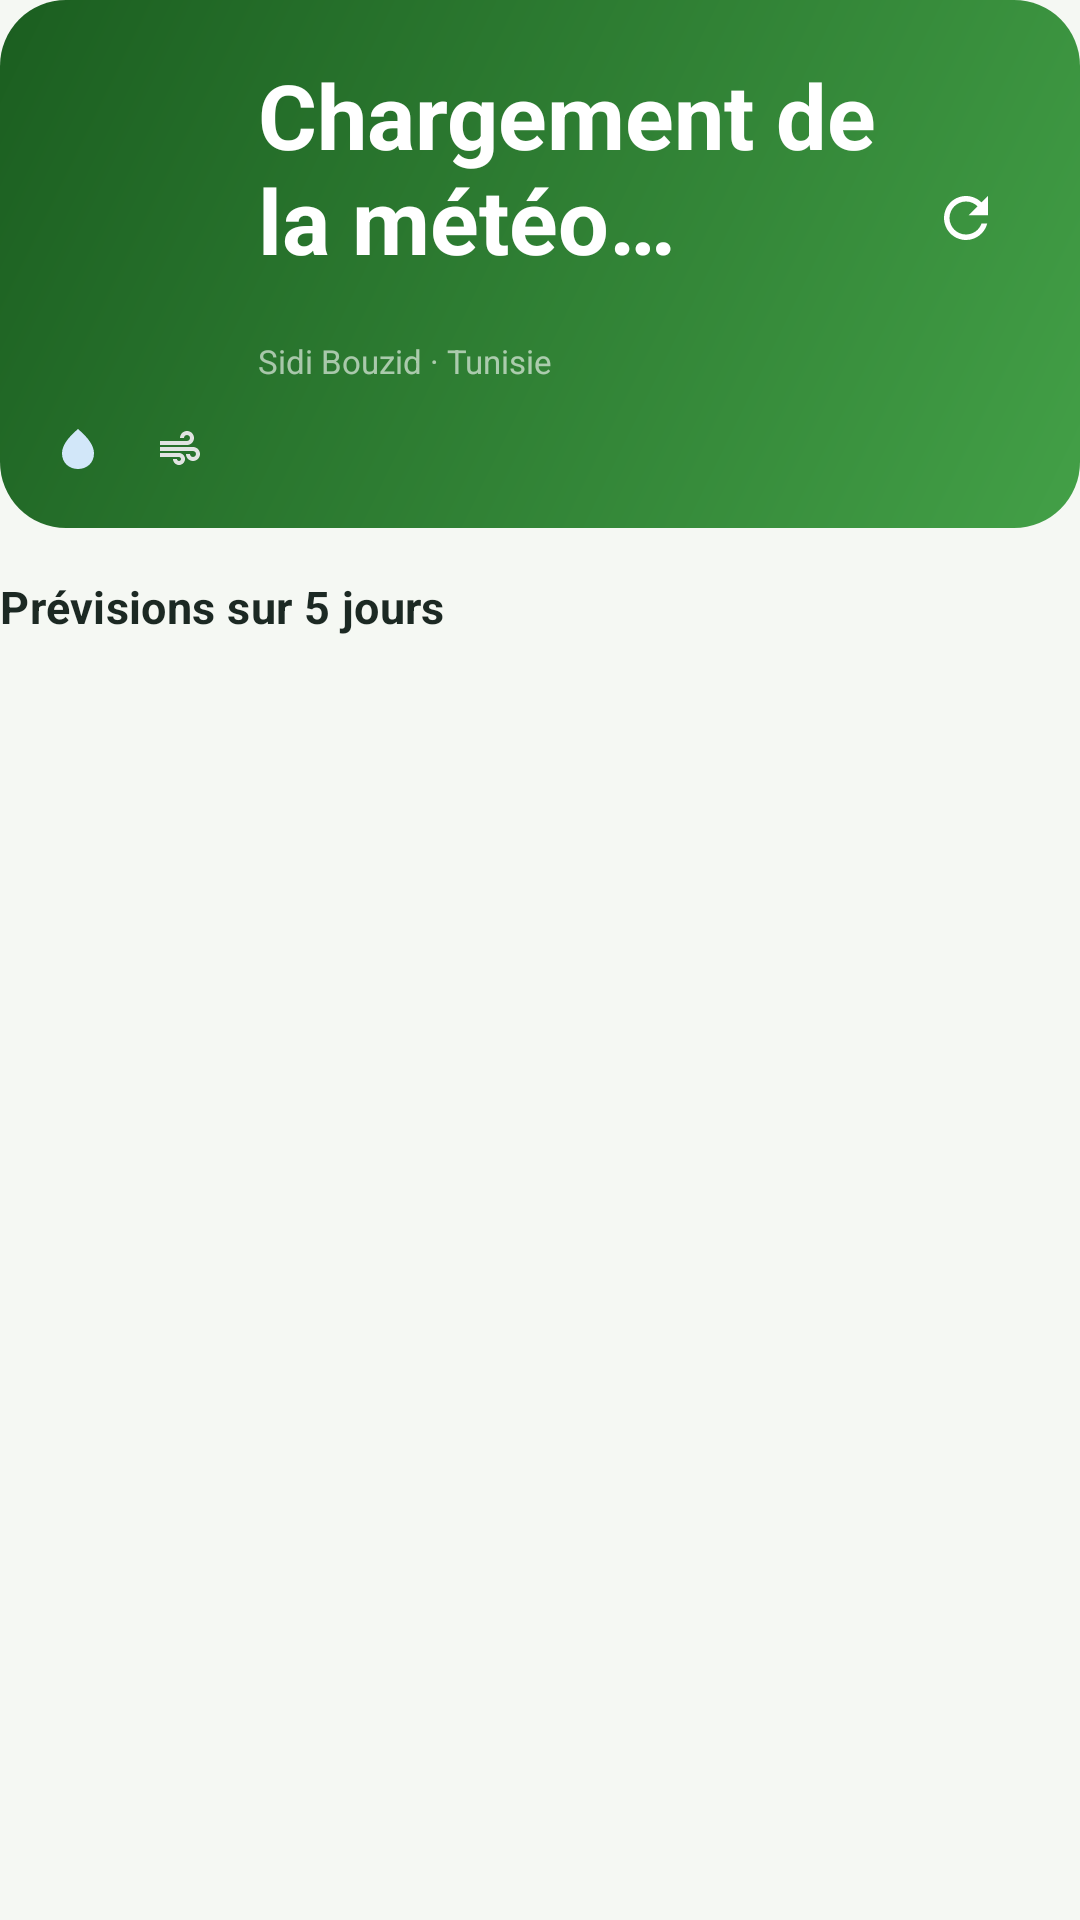

Icon click points for this 1080px×1920px phone screenshot, format (x,y):
Actualiser: (966,218)
water drop: (78,449)
wind: (180,448)
